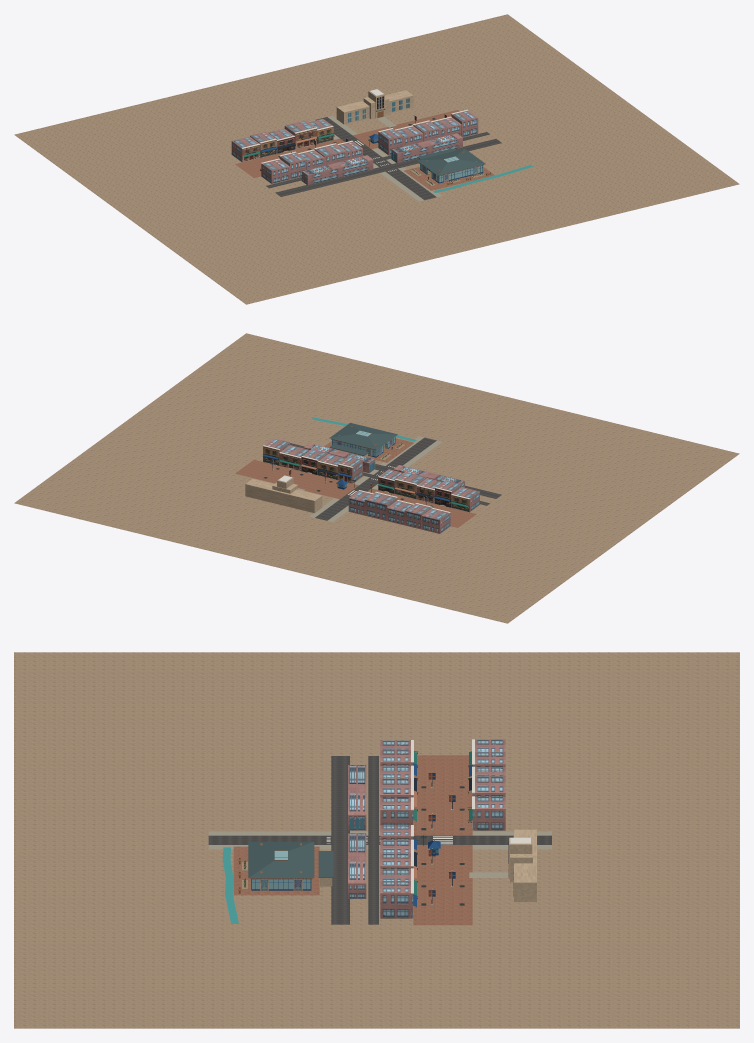
The model's file is trip-pearl.glb.
3 views of the same model, one above another, from view 1: azimuth 30°, elevation 25°; view 2: azimuth 150°, elevation 25°; view 3: azimuth 270°, elevation 25° (orthographic). The views are drawn at different scales.
Parts seen in each view (by area): view 1: pearl; view 2: pearl; view 3: pearl.
Part boxes in pixels (<box>): pearl: <box>14,14,739,304</box>; pearl: <box>14,333,739,623</box>; pearl: <box>14,652,739,1028</box>.
Bounding box in the file's own units: 270 × 11.61 × 220.
46 materials, 29 textured.
